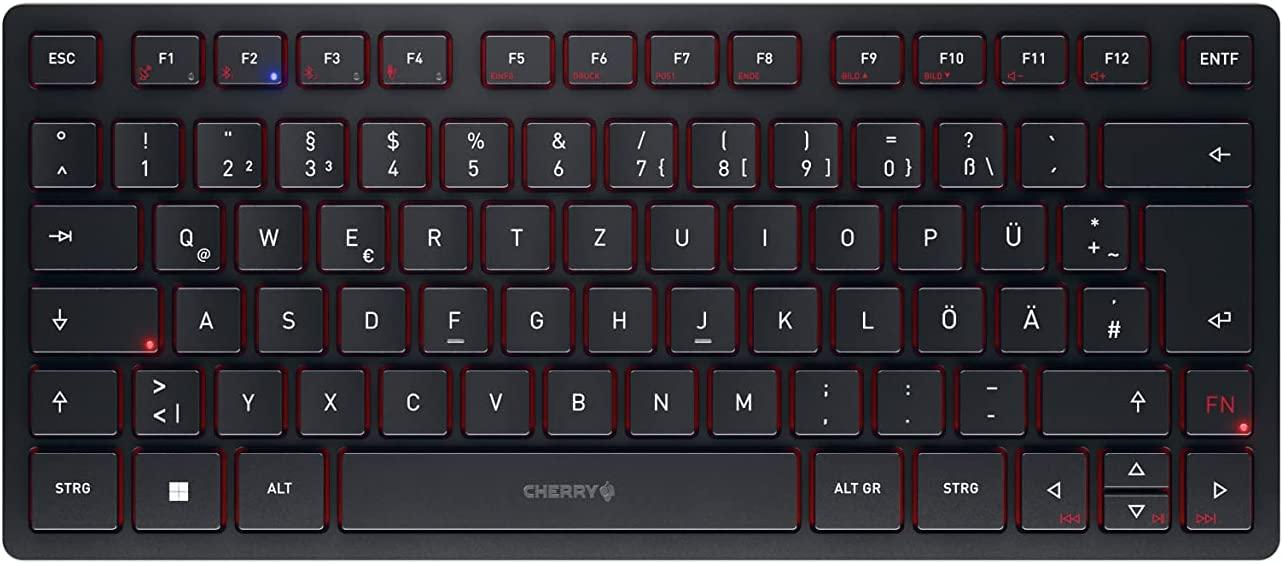0: (852, 117, 925, 190)
1: (109, 117, 181, 188)
2: (192, 117, 265, 190)
3: (274, 116, 347, 190)
4: (357, 116, 429, 188)
5: (437, 116, 512, 189)
6: (521, 116, 595, 189)
7: (603, 117, 677, 189)
8: (686, 117, 760, 191)
9: (768, 117, 842, 190)
a: (171, 282, 242, 353)
accent: (1017, 117, 1088, 188)
ae: (996, 281, 1068, 353)
alt-left: (231, 446, 328, 532)
altgr-right: (807, 446, 905, 531)
b: (541, 363, 615, 435)
c: (377, 363, 449, 434)
caret: (26, 117, 99, 188)
comma: (788, 364, 862, 436)
d: (335, 282, 407, 353)
del: (1101, 117, 1256, 187)
e: (315, 199, 387, 272)
enter: (1141, 194, 1257, 357)
f: (419, 281, 488, 352)
g: (501, 282, 572, 352)
h: (584, 281, 654, 352)
hash: (1078, 282, 1149, 353)
i: (728, 199, 799, 269)
j: (666, 281, 736, 353)
k: (748, 281, 819, 352)
keyboard: (1, 4, 1278, 560)
l: (831, 281, 902, 352)
less: (127, 364, 202, 436)
m: (707, 363, 780, 435)
minus: (954, 365, 1027, 435)
n: (624, 363, 697, 435)
o: (809, 200, 882, 270)
oe: (912, 283, 985, 353)
p: (893, 200, 964, 270)
plus: (1058, 199, 1130, 271)
point: (871, 365, 946, 435)
q: (149, 199, 223, 272)
r: (398, 199, 469, 270)
s: (253, 282, 325, 353)
shift-left: (24, 366, 119, 435)
shift-lock: (26, 283, 159, 352)
shift-right: (1041, 365, 1172, 436)
space: (333, 446, 804, 534)
ss: (933, 116, 1006, 189)
strg-left: (25, 446, 121, 531)
strg-right: (911, 446, 1010, 531)
t: (481, 198, 551, 269)
tab: (25, 200, 138, 269)
u: (645, 199, 717, 270)
ue: (974, 199, 1048, 271)
v: (459, 364, 532, 434)
w: (232, 198, 304, 270)
x: (296, 365, 368, 435)
y: (213, 365, 284, 435)
z: (562, 199, 634, 270)
